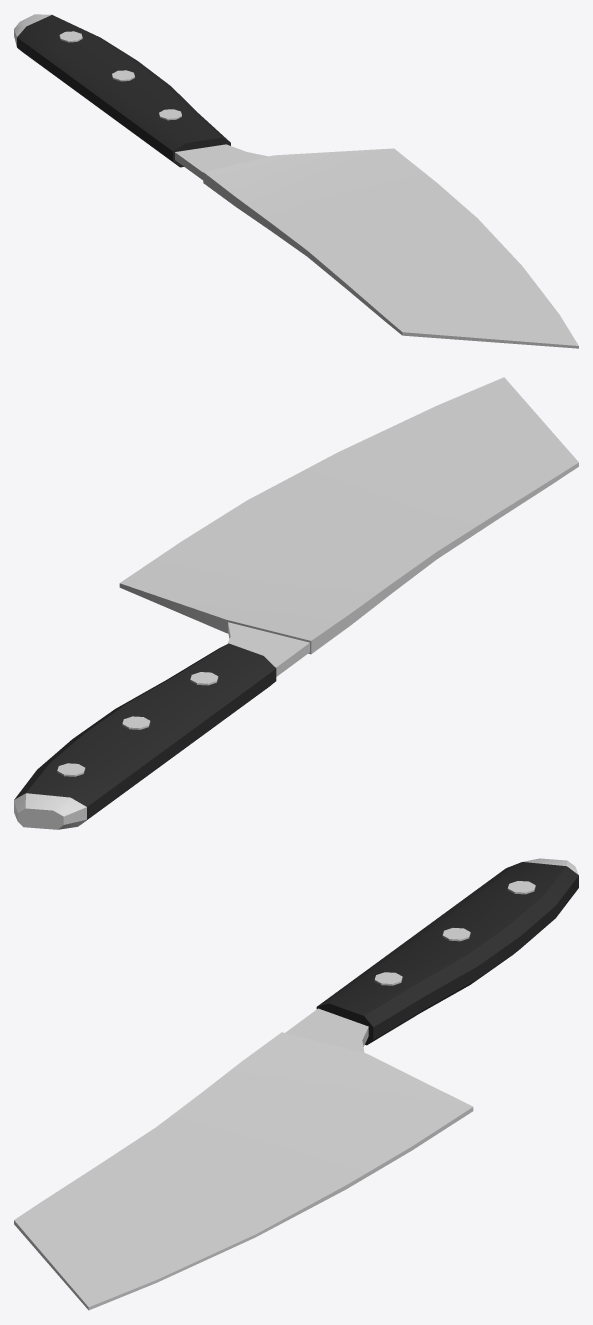
Rendered from CleaverKnife_01.fbx.
3 renders of one model, top to bottom at view 1: azimuth 30°, elevation 25°; view 2: azimuth 150°, elevation 25°; view 3: azimuth 330°, elevation 25°, orthographic. The views are drawn at different scales.
Visible parts, largest first — view 1: CleaverKnife_01; view 2: CleaverKnife_01; view 3: CleaverKnife_01.
Part boxes in pixels (x1=…): CleaverKnife_01: x1=14, y1=14, x2=578, y2=348; CleaverKnife_01: x1=14, y1=377, x2=578, y2=829; CleaverKnife_01: x1=14, y1=858, x2=578, y2=1310.
Bounding box in the file's own units: 0.0783 × 0.0108 × 0.3448.
